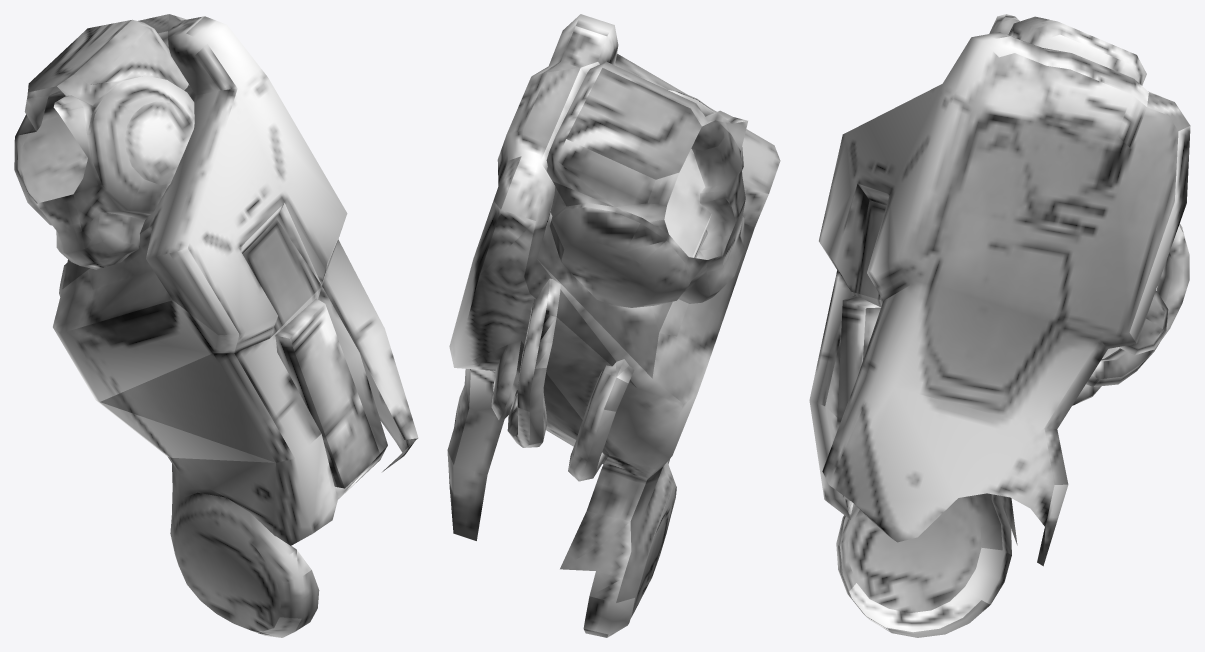
The model's file is l_thigh.glb.
3 renders of one model, left to right at view 1: azimuth 30°, elevation 25°; view 2: azimuth 150°, elevation 25°; view 3: azimuth 270°, elevation 25°, orthographic. The views are drawn at different scales.
Parts seen in each view (by area): view 1: l_thigh; view 2: l_thigh; view 3: l_thigh.
Part boxes in pixels (x1,y1,x2,y2): l_thigh: [14, 14, 418, 637]; l_thigh: [447, 14, 780, 637]; l_thigh: [809, 14, 1190, 637].
Size of the model in its own units: 0.63 by 1.19 by 0.694.
3 materials, 3 textured.
